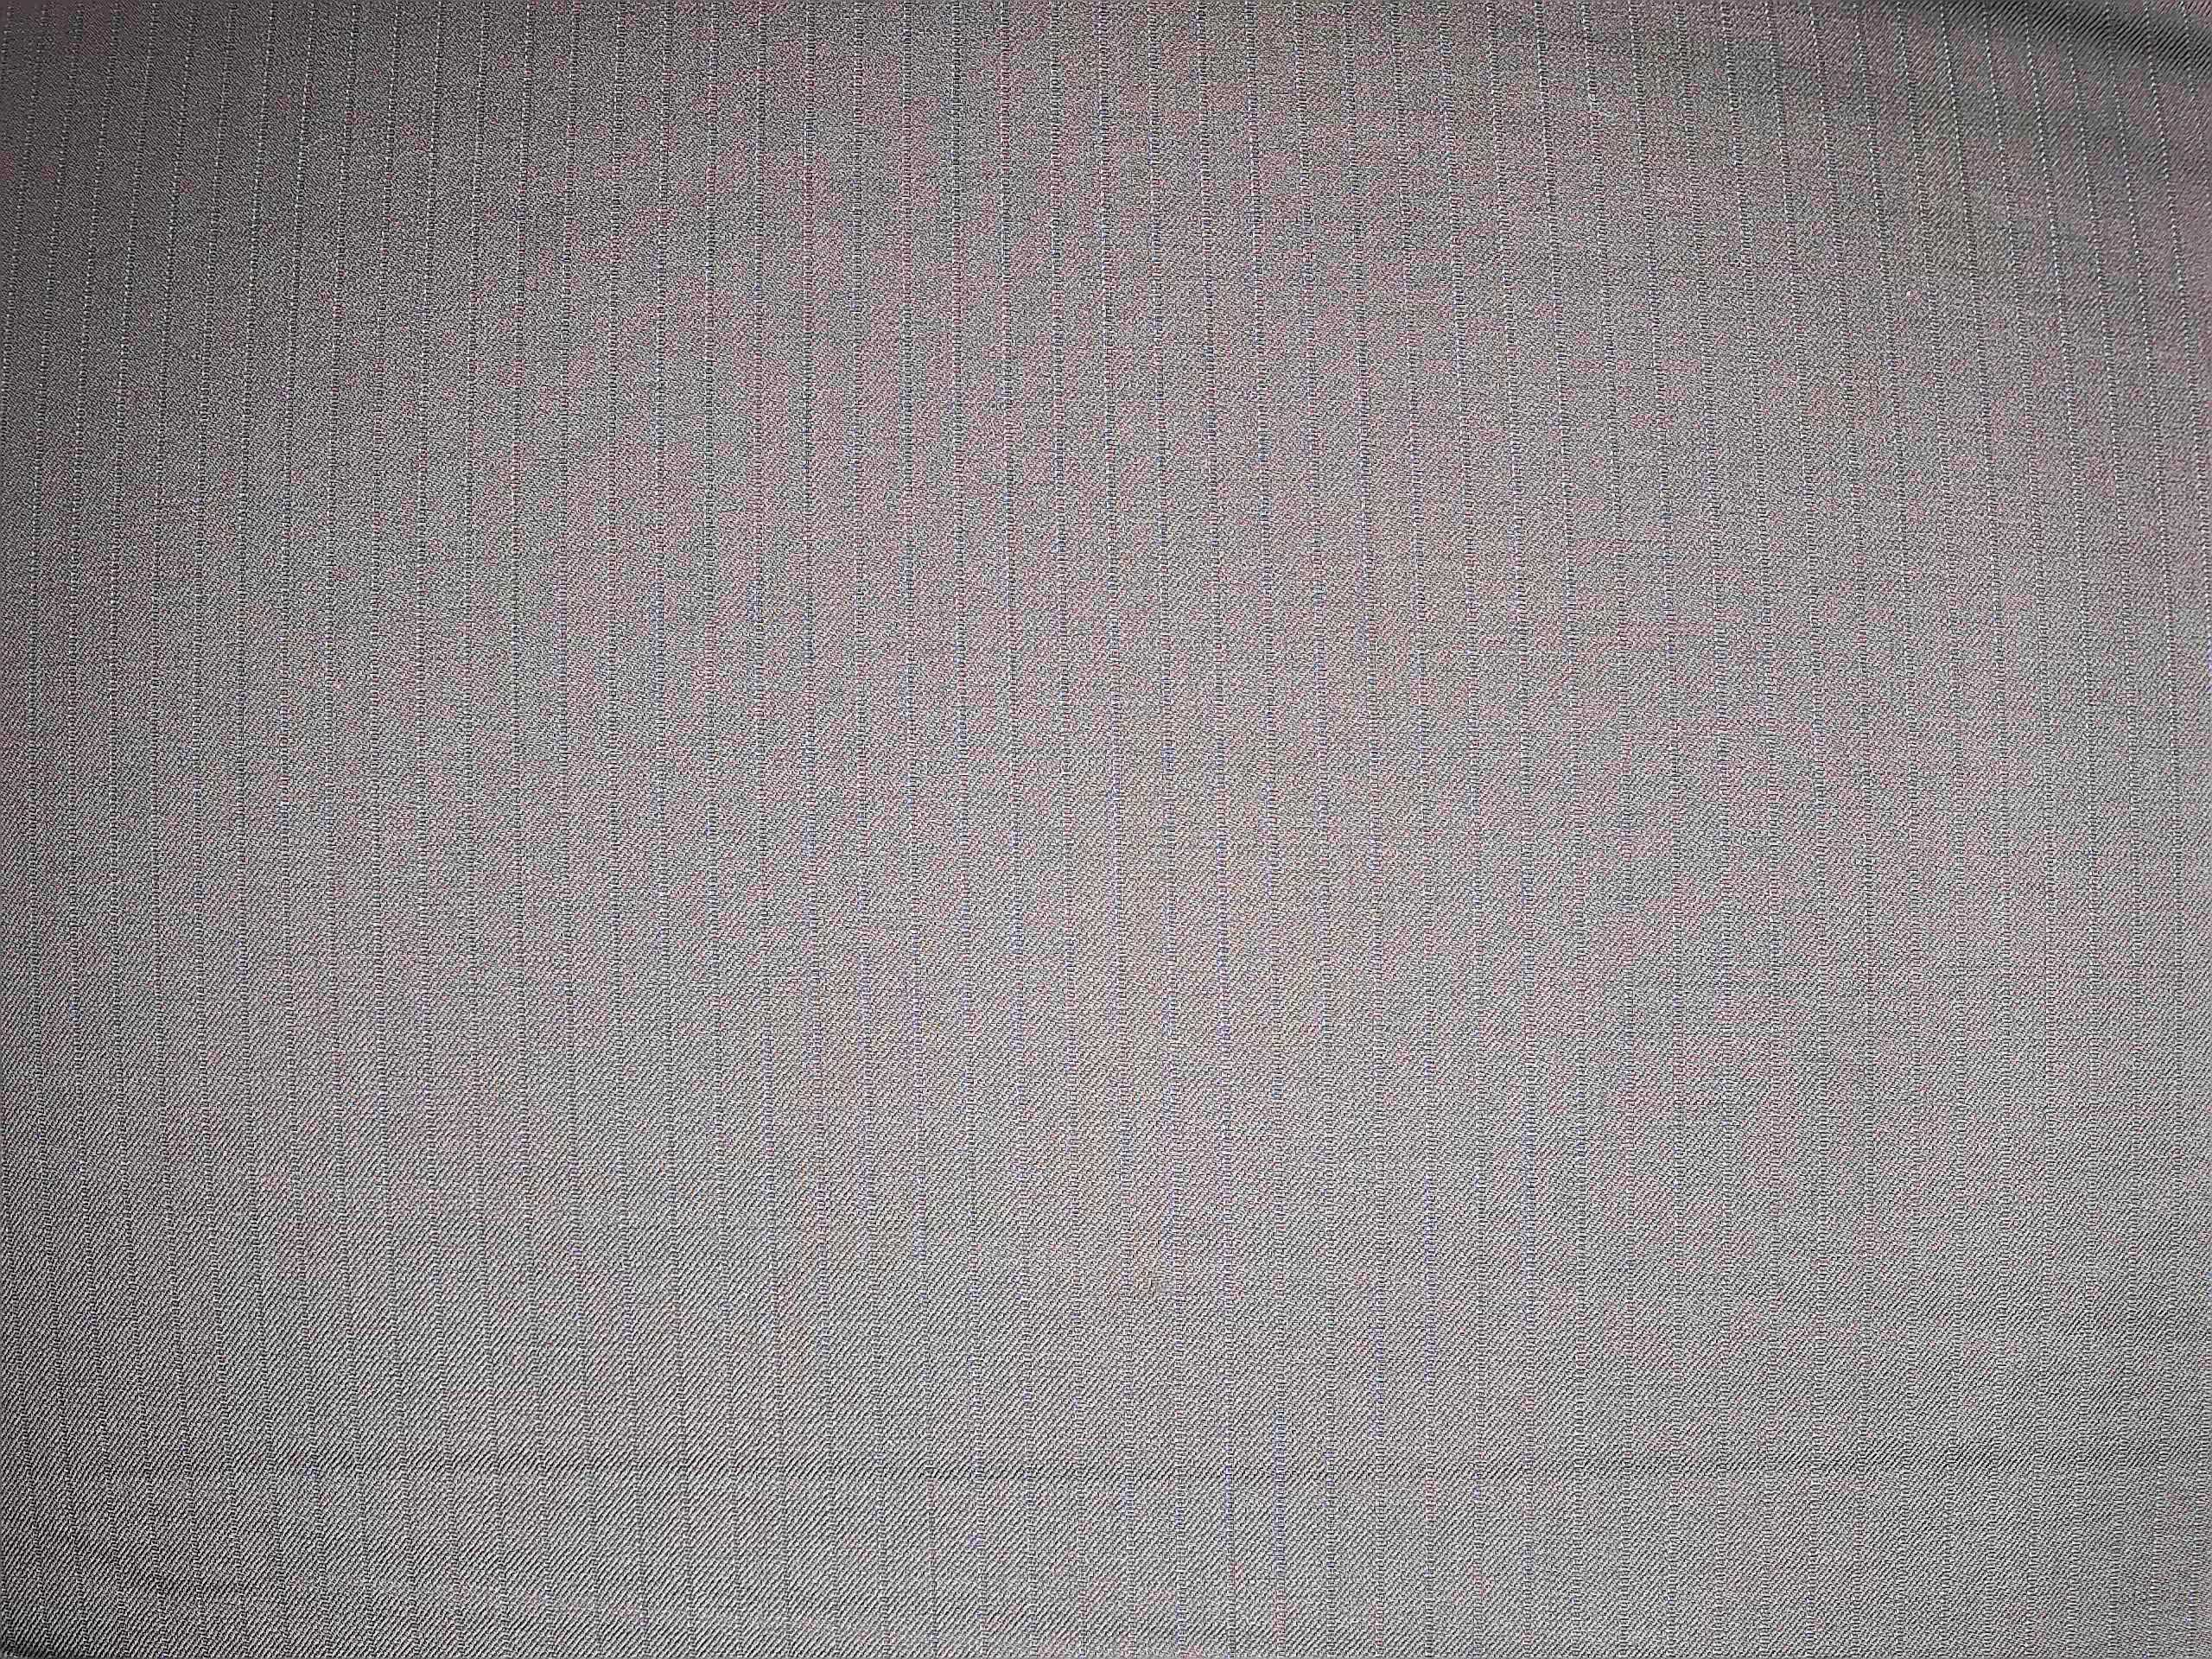knots: (1686, 599, 1822, 697)
